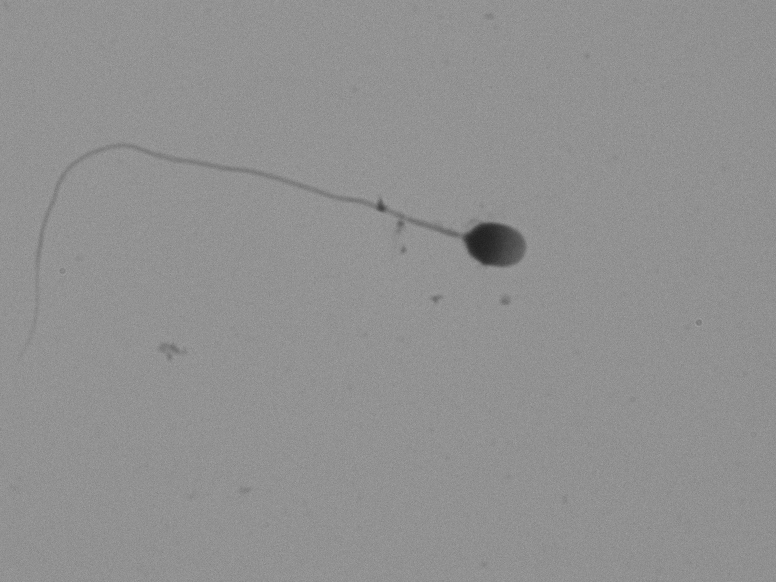Normal: (22, 103, 546, 429)
